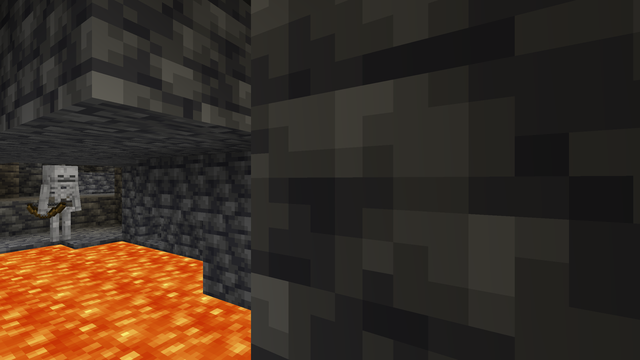squelettes: (40, 165, 78, 243)
